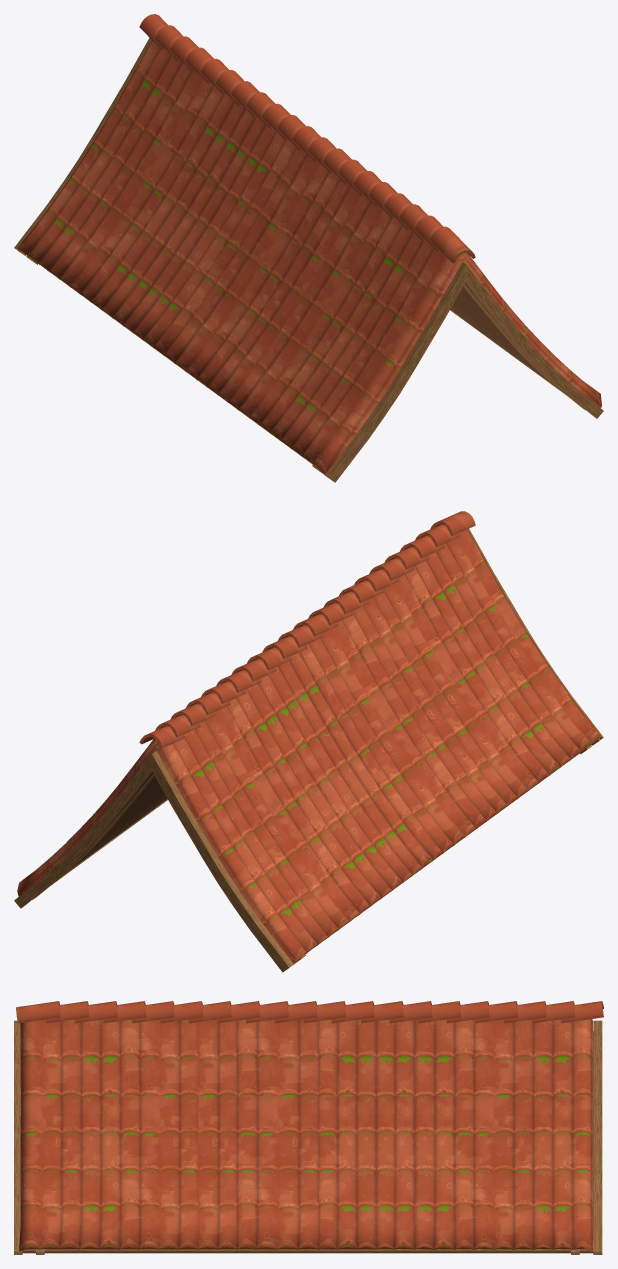
The model's file is Roof_RoundTiles_6x14.gltf.
The picture shows the model from 3 angles, top to bottom: view 1: azimuth 30°, elevation 25°; view 2: azimuth 150°, elevation 25°; view 3: azimuth 270°, elevation 25°; orthographic projection. The views are drawn at different scales.
Parts seen in each view (by area): view 1: Roof_RoundTiles_6x14; view 2: Roof_RoundTiles_6x14; view 3: Roof_RoundTiles_6x14.
Part boxes in pixels (x1,y1,x2,y2): Roof_RoundTiles_6x14: (14, 14, 603, 482); Roof_RoundTiles_6x14: (14, 511, 603, 972); Roof_RoundTiles_6x14: (14, 1001, 603, 1254).
Size of the model in its own units: 8.25 by 5.67 by 15.71.
2 materials, 2 textured.
